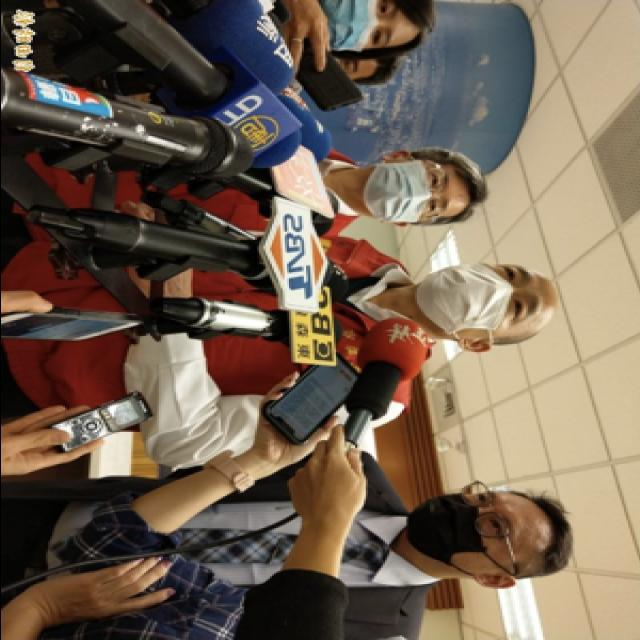with_mask: (416, 264, 544, 341), (407, 492, 527, 574), (364, 157, 454, 224), (320, 2, 403, 52)
